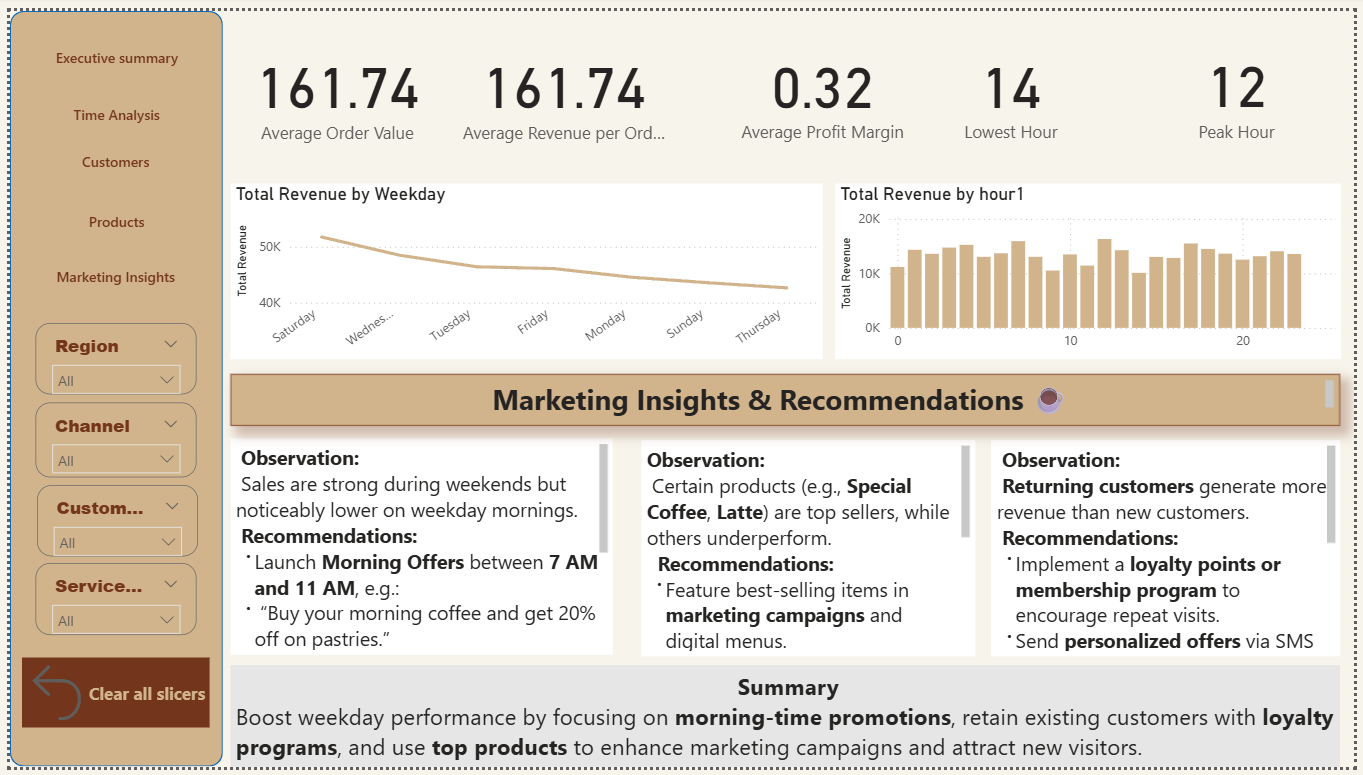

The page's visual inventory and layout, read from the dashboard file:
{"tool":"powerbi","page":{"name":"Page 6","canvas":[1280,720],"ordinal":5},"visuals":[{"type":"shape","box":[0,0,202.6,719.6],"z":0},{"type":"group","id":"g1","title":"Group 2","box":[24,297,154,298],"z":1000},{"type":"actionButton","box":[11.7,615,178.3,66.7],"z":2000},{"type":"group","id":"g2","title":"Group 3","box":[18,16,166,257],"z":3000},{"type":"card","fields":{"Values":["Sheet1.Average Order Value"]},"box":[210.4,10.4,203,134.3],"z":4000},{"type":"card","fields":{"Values":["Sheet1.Average Profit Margin"]},"box":[676.1,10.4,195.5,132.8],"z":5000},{"type":"card","fields":{"Values":["Sheet1.Average Revenue per Order"]},"box":[425.4,10.4,203,134.3],"z":6000},{"type":"card","fields":{"Values":["Sheet1.Lowest Hour"]},"box":[850.7,10.4,203,132.8],"z":7000},{"type":"card","fields":{"Values":["Sheet1.Peak Hour"]},"box":[1068.7,9,198.5,134.3],"z":8000},{"type":"lineClusteredColumnComboChart","fields":{"Category":["Sheet1.hour1"],"Y":["Sheet1.Total Revenue"]},"box":[785.1,164.2,482.1,167.2],"z":9000},{"type":"slicer","fields":{"Values":["Sheet1.Region"]},"box":[24,297,153.3,67.8],"z":9000,"group":"g1"},{"type":"lineChart","fields":{"Category":["Sheet1.Weekday"],"Y":["Sheet1.Total Revenue"]},"box":[210.4,164.2,564.2,167.2],"z":10000},{"type":"slicer","fields":{"Values":["Sheet1.Channel"]},"box":[24,372.6,153.3,71.1],"z":10000,"group":"g1"},{"type":"textbox","box":[210.4,407.5,364.2,206],"z":11000},{"type":"slicer","fields":{"Values":["Sheet1.Customer_Type"]},"box":[25.1,451.4,153.3,67.8],"z":11000,"group":"g1"},{"type":"textbox","box":[934.3,409,332.8,206],"z":12000},{"type":"slicer","fields":{"Values":["Sheet1.Service_Category"]},"box":[24,525.9,153.3,68.9],"z":12000,"group":"g1"},{"type":"textbox","box":[601.5,409,317.9,206],"z":13000},{"type":"actionButton","box":[19.2,16,164.4,57.8],"z":14000,"group":"g2"},{"type":"textbox","box":[210.4,346.3,1056.7,49.3],"z":14000},{"type":"actionButton","box":[28.1,73.8,146.7,50],"z":15000,"group":"g2"},{"type":"textbox","box":[210.4,622.4,1056.7,97],"z":15000},{"type":"actionButton","box":[37,123.8,127.8,40],"z":16000,"group":"g2"},{"type":"actionButton","box":[28.1,180.4,146.7,40],"z":17000,"group":"g2"},{"type":"actionButton","box":[18,233.4,165,40],"z":18000,"group":"g2"}]}

Visuals, with their boxes in screenshot pixels (x1, y1, x2, y2), scaled from the page's 1280x720 canvas onto the 1363x775 screenshot:
shape: <region>0, 0, 216, 774</region>
"Group 2" group: <region>26, 320, 190, 640</region>
actionButton: <region>12, 662, 202, 734</region>
"Group 3" group: <region>19, 17, 196, 294</region>
card - Sheet1.Average Order Value: <region>224, 11, 440, 156</region>
card - Sheet1.Average Profit Margin: <region>720, 11, 928, 154</region>
card - Sheet1.Average Revenue per Order: <region>453, 11, 669, 156</region>
card - Sheet1.Lowest Hour: <region>906, 11, 1122, 154</region>
card - Sheet1.Peak Hour: <region>1138, 10, 1349, 154</region>
lineClusteredColumnComboChart - Sheet1.hour1 x Sheet1.Total Revenue: <region>836, 177, 1349, 357</region>
slicer - Sheet1.Region: <region>26, 320, 189, 393</region>
lineChart - Sheet1.Weekday x Sheet1.Total Revenue: <region>224, 177, 825, 357</region>
slicer - Sheet1.Channel: <region>26, 401, 189, 478</region>
textbox: <region>224, 439, 612, 660</region>
slicer - Sheet1.Customer_Type: <region>27, 486, 190, 559</region>
textbox: <region>995, 440, 1349, 662</region>
slicer - Sheet1.Service_Category: <region>26, 566, 189, 640</region>
textbox: <region>641, 440, 979, 662</region>
actionButton: <region>20, 17, 196, 79</region>
textbox: <region>224, 373, 1349, 426</region>
actionButton: <region>30, 79, 186, 133</region>
textbox: <region>224, 670, 1349, 774</region>
actionButton: <region>39, 133, 175, 176</region>
actionButton: <region>30, 194, 186, 237</region>
actionButton: <region>19, 251, 195, 294</region>
